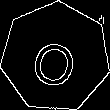O_N: (28, 26, 83, 88)
